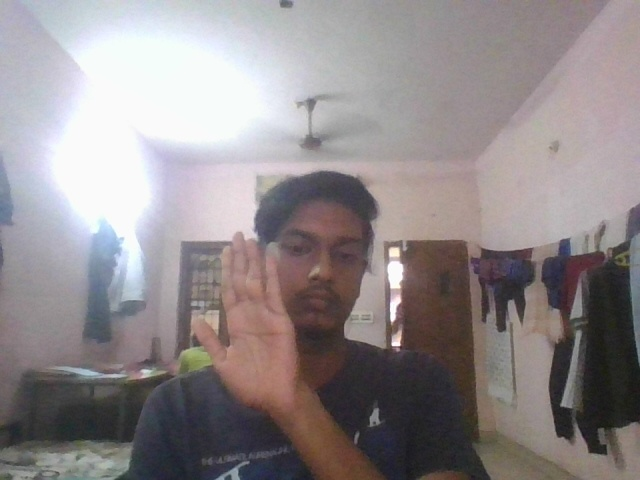hello: (187, 228, 303, 420)
